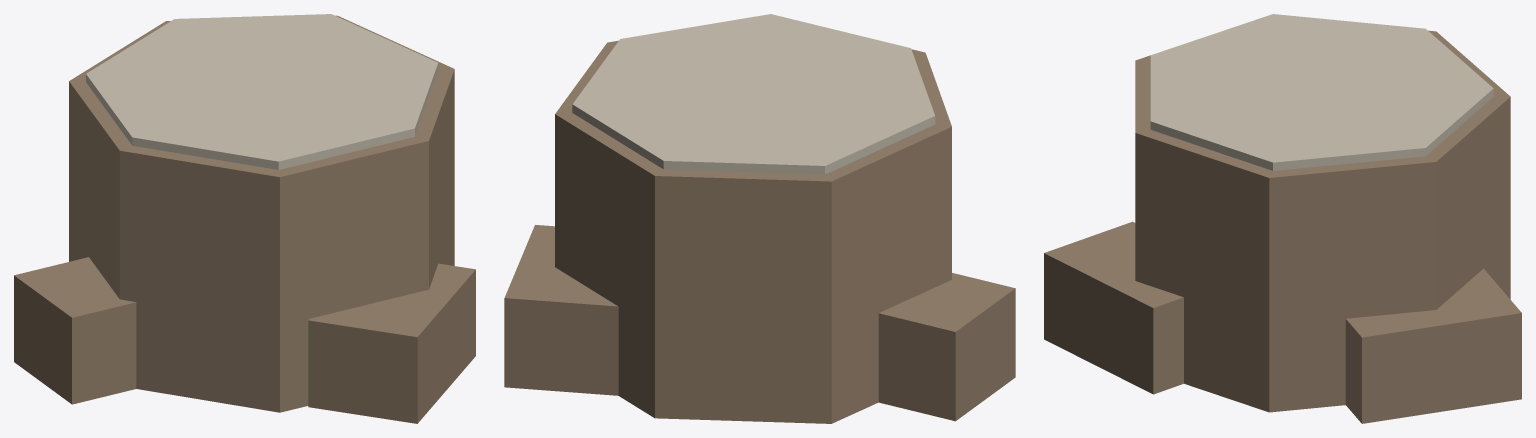
File: stump.glb
3 views of the same model, side by side, from view 1: azimuth 30°, elevation 25°; view 2: azimuth 150°, elevation 25°; view 3: azimuth 270°, elevation 25° (orthographic). The views are drawn at different scales.
Parts seen in each view (by area): view 1: stump; view 2: stump; view 3: stump.
Part boxes in pixels (x1,y1,x2,y2): stump: [14, 14, 475, 423]; stump: [504, 14, 1015, 423]; stump: [1044, 14, 1521, 423].
Bounding box in the file's own units: 0.2325 × 0.1312 × 0.234.
